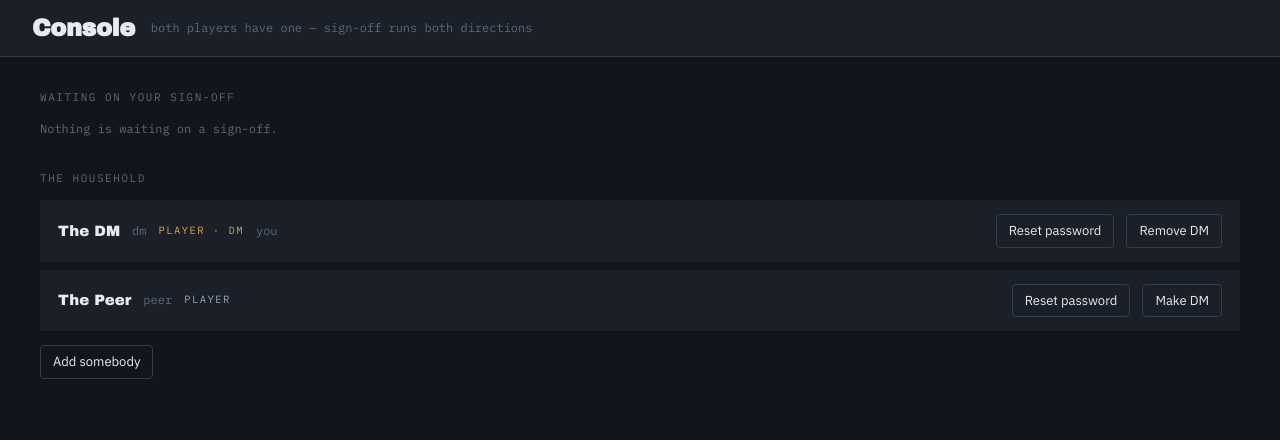
the three acts › renders the refusal sentence when the DM tries to demote themselves
Expected: the heading "Console" is shown, 32,10 -> 135,46
Click the button "Remove DM": (1174, 231) 1126,214 -> 1222,248
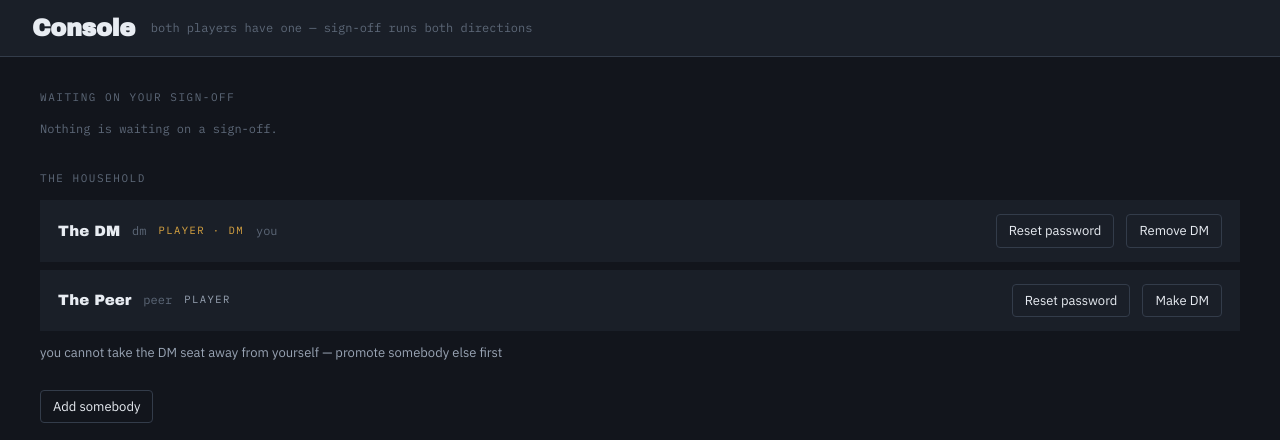
Expected: the message shows "promote somebody else first", 40,344 -> 502,361
